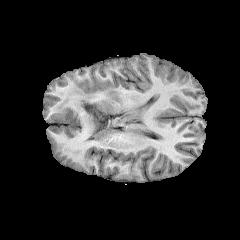glioma: (43, 81, 127, 140)
